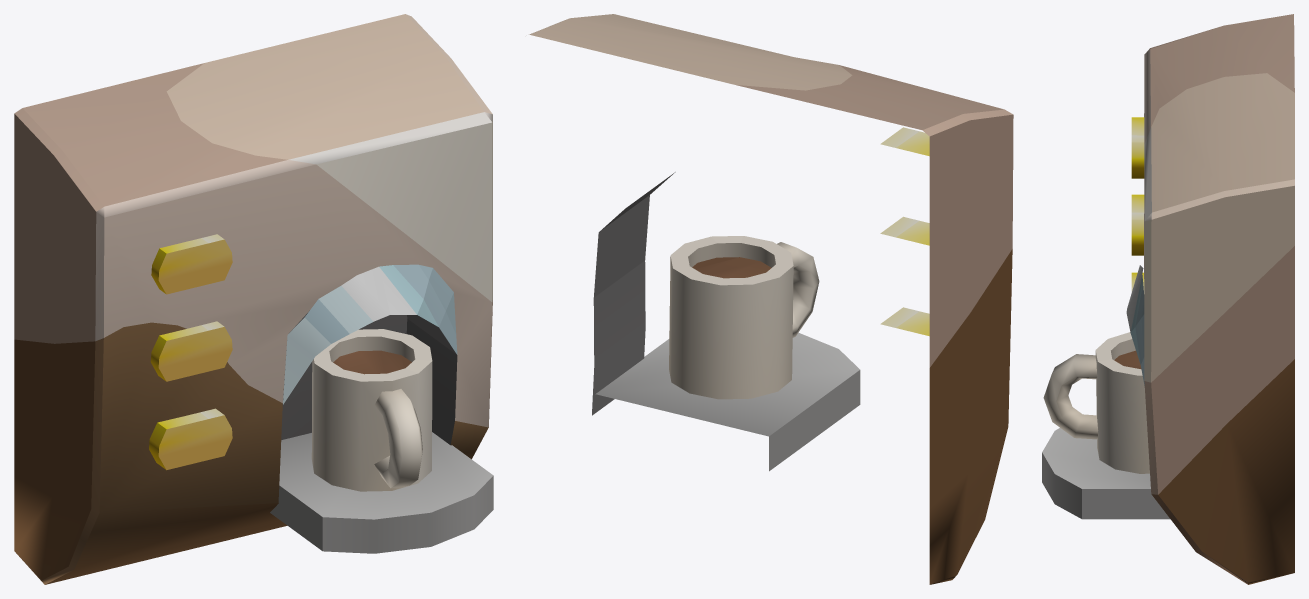
The model's file is HotChocolateMachine.glb.
The picture shows the model from 3 angles, left to right: view 1: azimuth 30°, elevation 25°; view 2: azimuth 150°, elevation 25°; view 3: azimuth 270°, elevation 25°; orthographic projection. The views are drawn at different scales.
Parts seen in each view (by area): view 1: HotChocolateMachine; view 2: HotChocolateMachine; view 3: HotChocolateMachine.
Boxes of the visible parts, <box> form: HotChocolateMachine: <box>14,14,493,584</box>; HotChocolateMachine: <box>529,14,1013,584</box>; HotChocolateMachine: <box>1042,14,1294,584</box>.
Bounding box in the file's own units: 0.6242 × 0.6863 × 0.3886.
